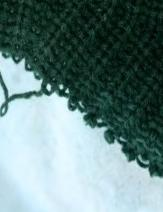snag: (1, 62, 64, 122)
